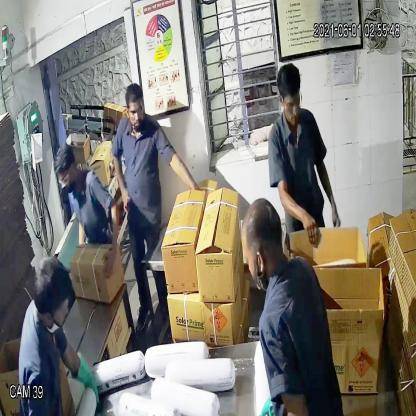goggles: (277, 90, 305, 113)
